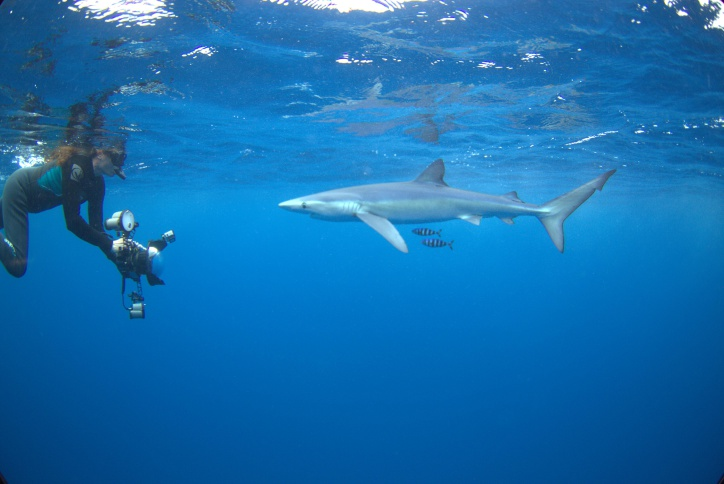Azul: (264, 143, 628, 261)
